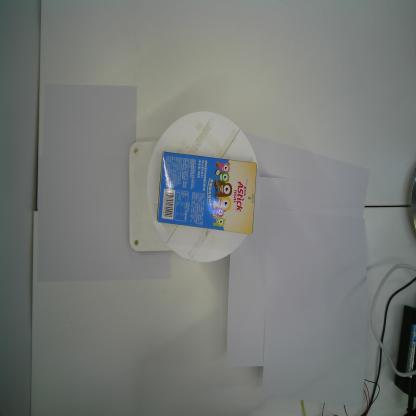Dessert: (156, 150, 258, 236)
